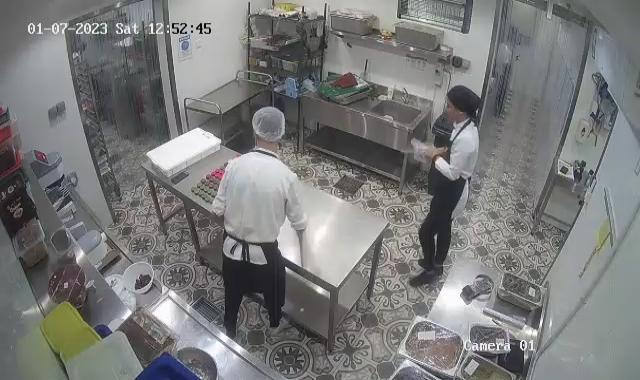hairnet: (250, 107, 285, 144)
no_hairnet: (444, 86, 478, 116)
